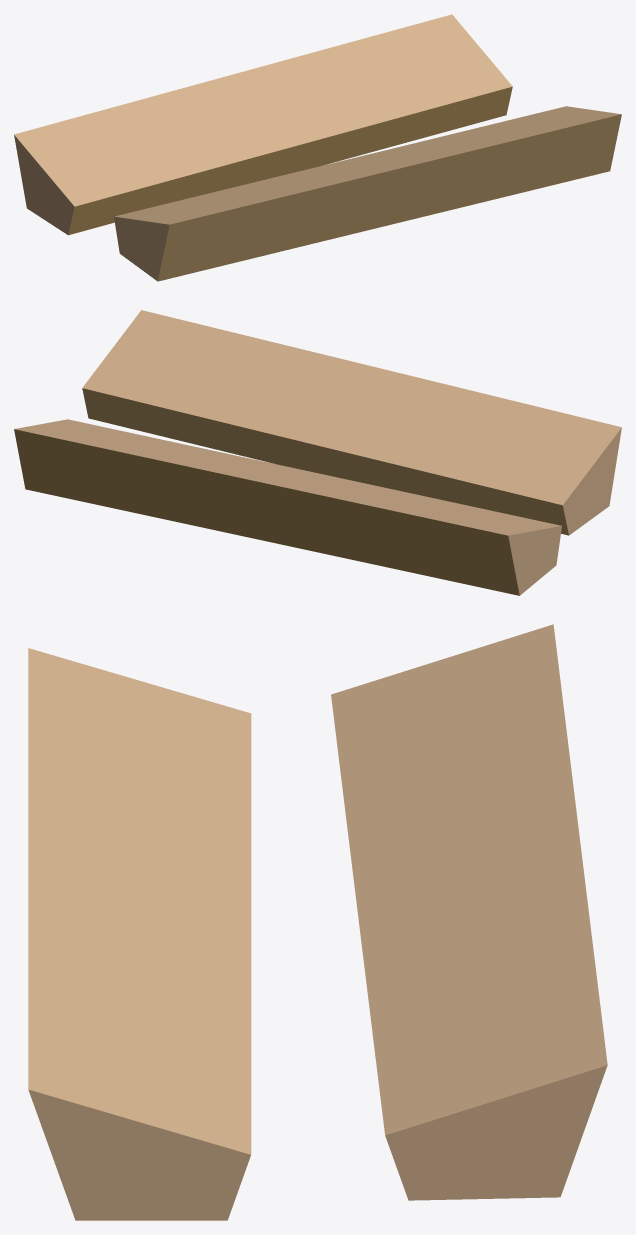
File: Simple_Firewood_06.fbx
The picture shows the model from 3 angles, top to bottom: view 1: azimuth 30°, elevation 25°; view 2: azimuth 150°, elevation 25°; view 3: azimuth 270°, elevation 25°; orthographic projection. The views are drawn at different scales.
Visible parts, largest first — view 1: Simple_Firewood_06; view 2: Simple_Firewood_06; view 3: Simple_Firewood_06.
Boxes of the visible parts, box(x1,y1,x2,y2) form: Simple_Firewood_06: box(14, 14, 621, 281); Simple_Firewood_06: box(14, 310, 621, 595); Simple_Firewood_06: box(28, 624, 607, 1220).
Size of the model in its own units: 59.01 by 7.76 by 31.06.
